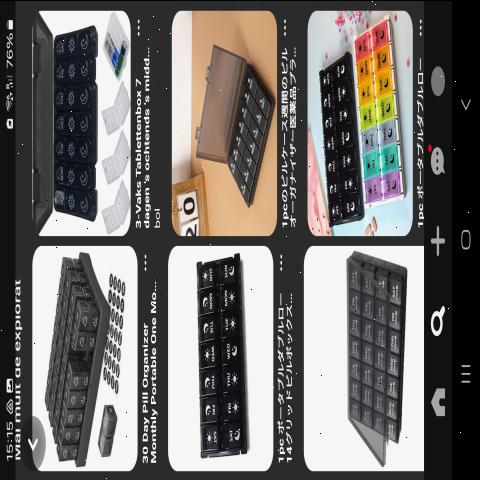PillBox: (332, 240, 422, 462), (185, 250, 255, 462), (220, 42, 272, 204), (322, 34, 354, 234)
